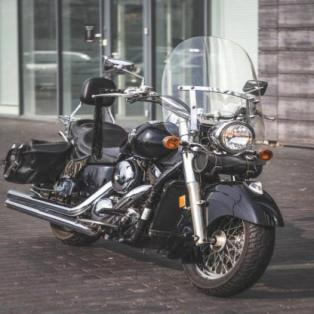Motocicleta: (0, 33, 279, 300)
